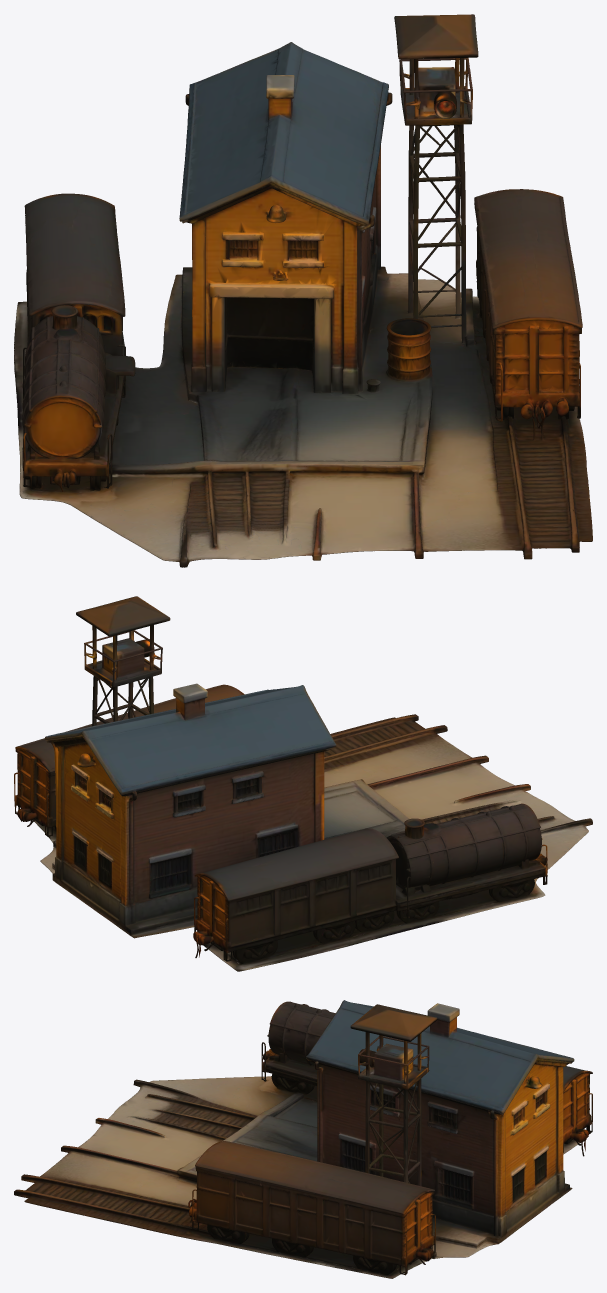
The model's file is depot-visual.glb.
3 renders of one model, top to bottom at view 1: azimuth 30°, elevation 25°; view 2: azimuth 150°, elevation 25°; view 3: azimuth 270°, elevation 25°, orthographic. The views are drawn at different scales.
Visible parts, largest first — view 1: node_0; view 2: node_0; view 3: node_0.
Boxes of the visible parts, left/top/right/bottom form: node_0: left=14, top=14, right=592, bottom=567; node_0: left=14, top=596, right=592, bottom=971; node_0: left=14, top=1000, right=592, bottom=1278.
Bounding box in the file's own units: 0.9542 × 0.4626 × 1.07.
Materials: 1 (1 with a texture image).
